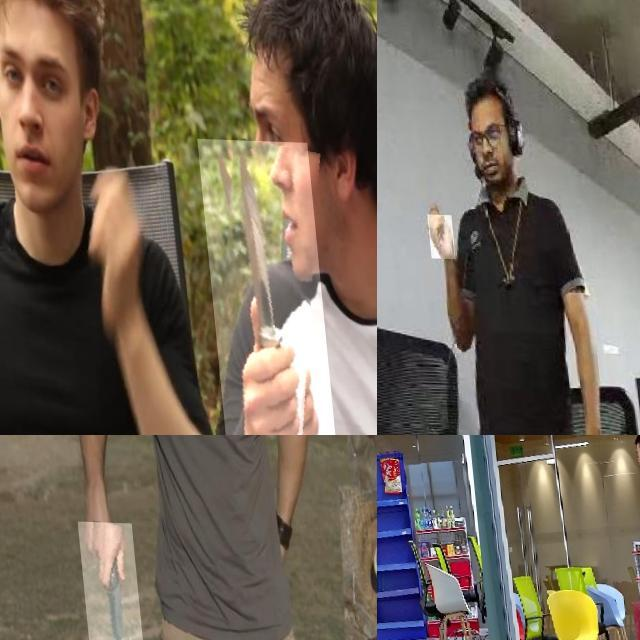-: (193, 136, 328, 435), (68, 520, 133, 640), (420, 212, 447, 257)
gun-knife-thesis - v11 Yolov5 augmented: (377, 489, 388, 517)
